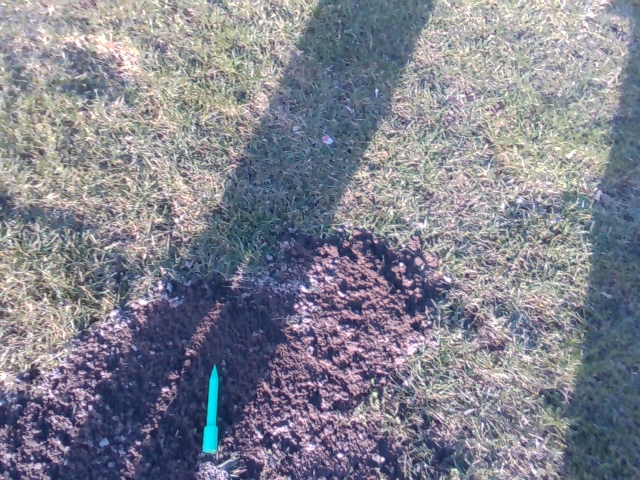Probe: (201, 361, 226, 458)
